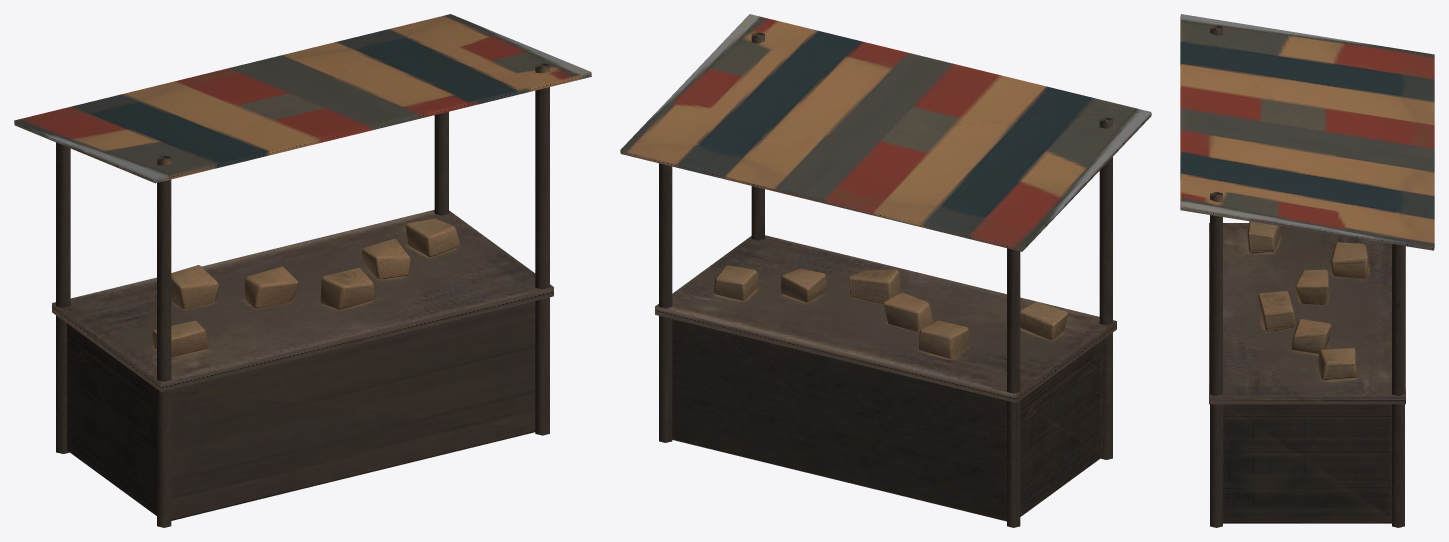
Rendered from stall_frame.glb.
3 renders of one model, left to right at view 1: azimuth 30°, elevation 25°; view 2: azimuth 150°, elevation 25°; view 3: azimuth 270°, elevation 25°, orthographic. The views are drawn at different scales.
Parts seen in each view (by area): view 1: stall_frame; view 2: stall_frame; view 3: stall_frame.
Part boxes in pixels (bbox=[...]): stall_frame: bbox=[14, 14, 591, 527]; stall_frame: bbox=[620, 14, 1151, 527]; stall_frame: bbox=[1180, 14, 1434, 527].
Bounding box in the file's own units: 3 × 2.41 × 1.68.
1 material, 1 textured.
